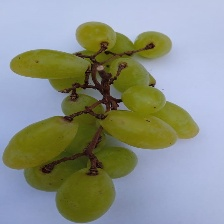grapes: (57, 15, 204, 186)
